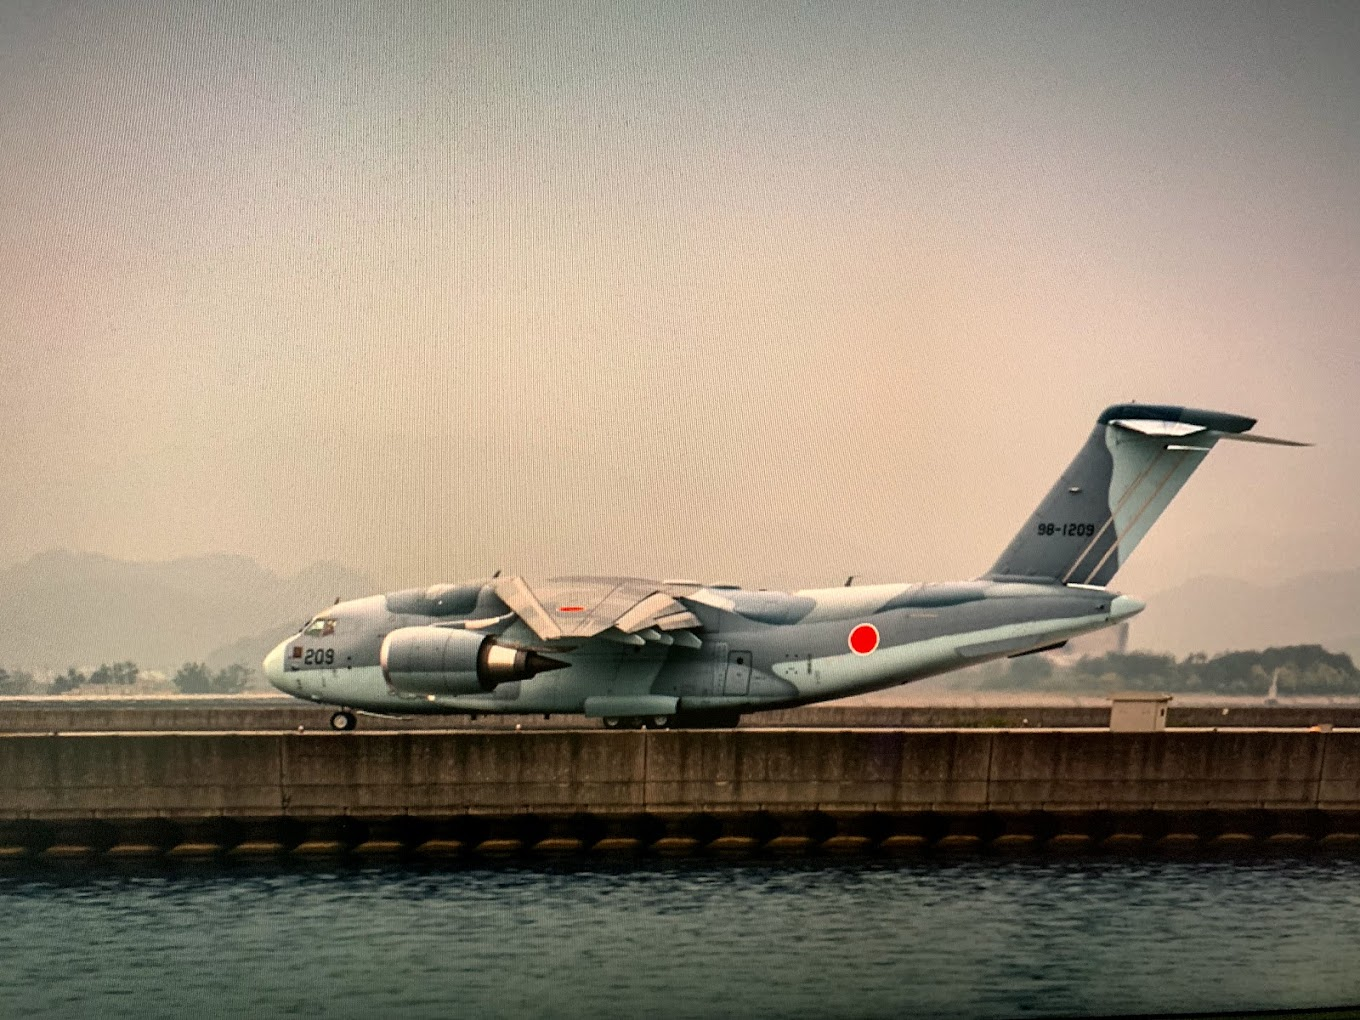airplane: (262, 399, 1317, 731)
